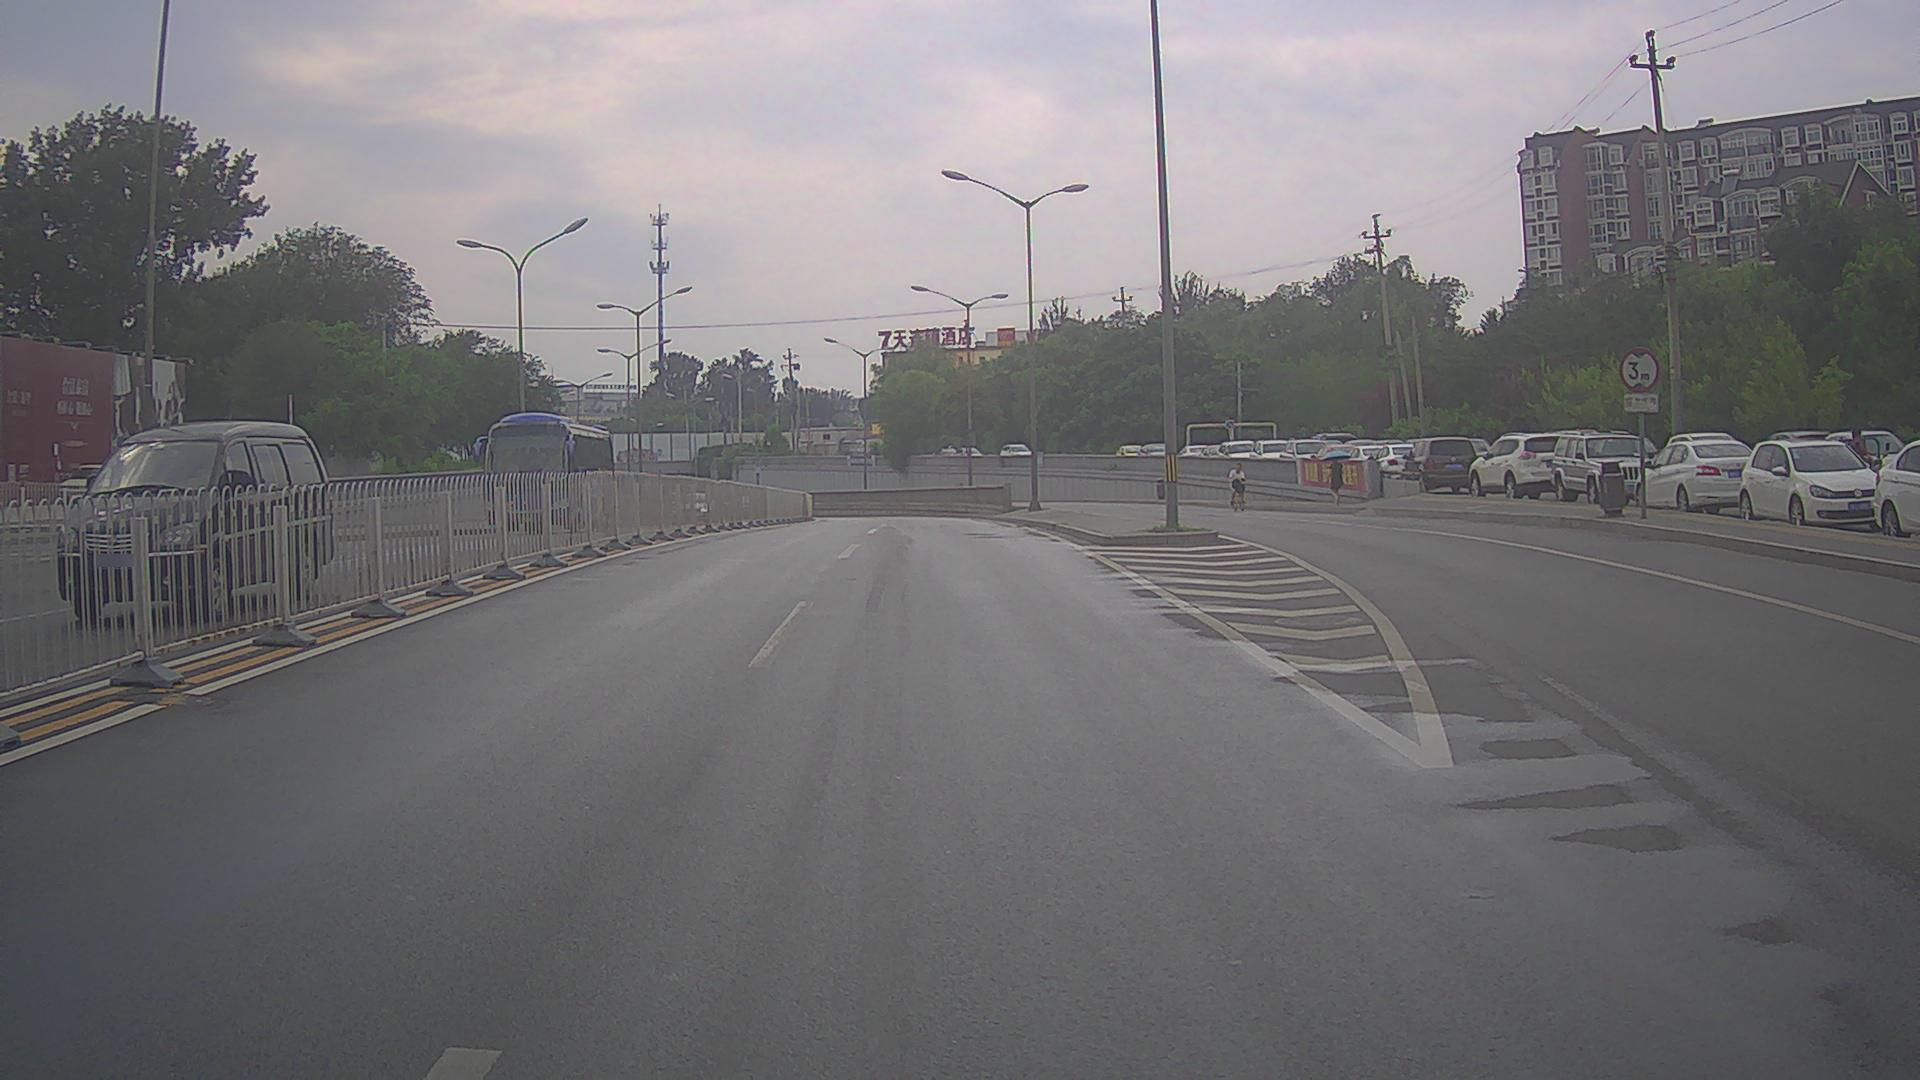bus: (471, 411, 613, 533)
car: (1737, 439, 1879, 528), (1633, 440, 1755, 511), (1551, 433, 1653, 505), (1468, 433, 1568, 498), (1871, 439, 1918, 538), (1368, 444, 1420, 479), (1282, 437, 1328, 471), (1249, 440, 1292, 471), (1135, 443, 1171, 463), (998, 443, 1032, 461), (1114, 444, 1144, 463)
ignore: (1827, 431, 1900, 473), (1318, 432, 1400, 460), (671, 490, 711, 526), (1180, 440, 1257, 458), (938, 445, 984, 457)
motorcyclist: (1227, 461, 1249, 512)
pedestrian: (1326, 458, 1344, 506)
van: (56, 423, 333, 621), (1401, 436, 1476, 492)
